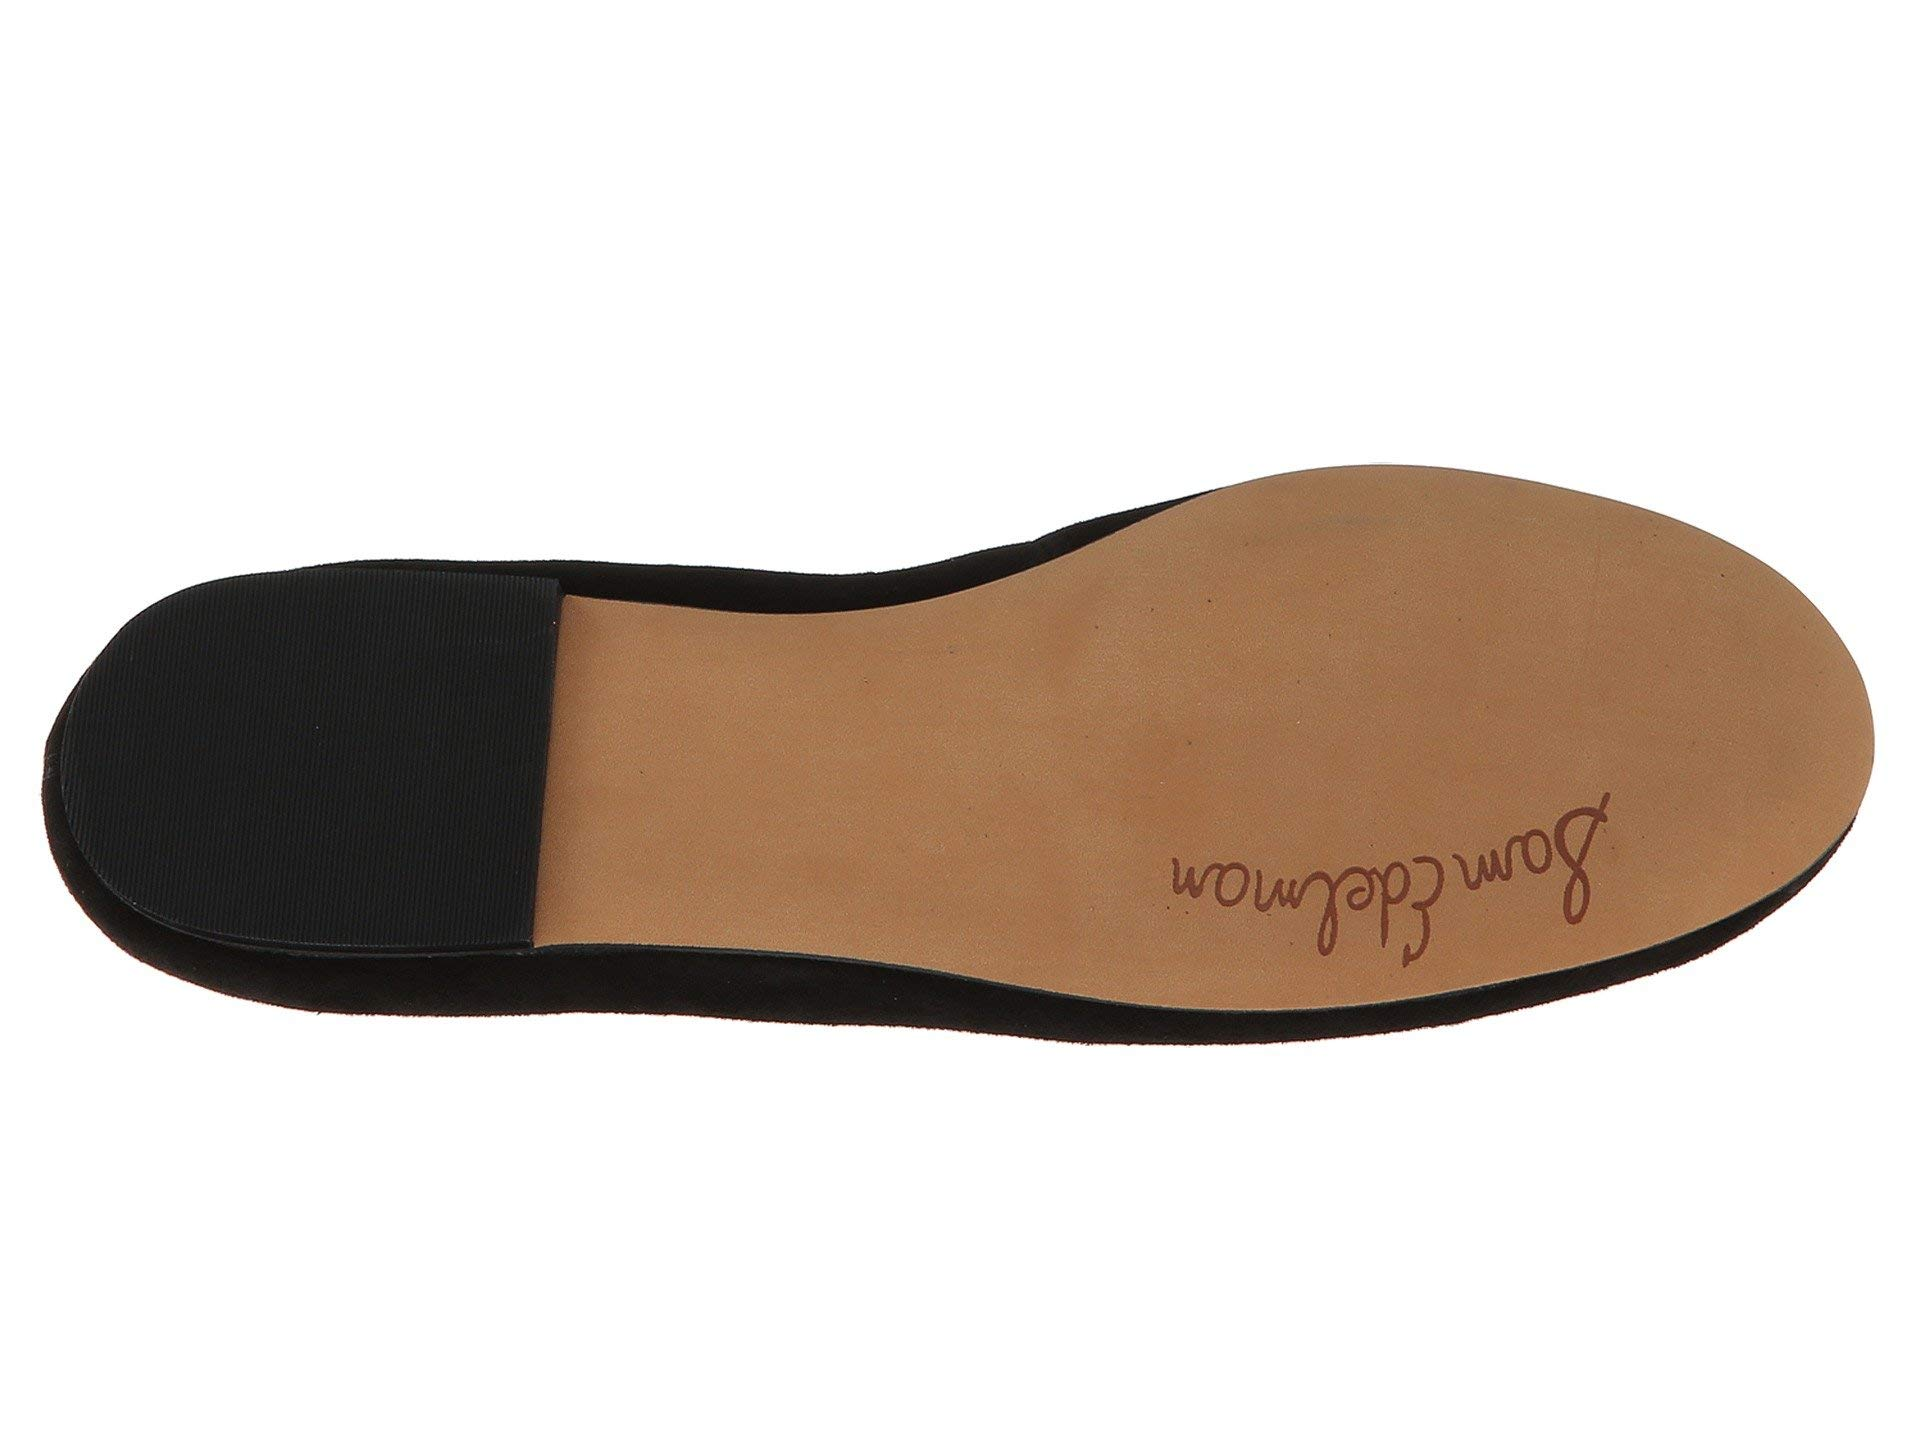text: (1211, 702, 1615, 1035)
